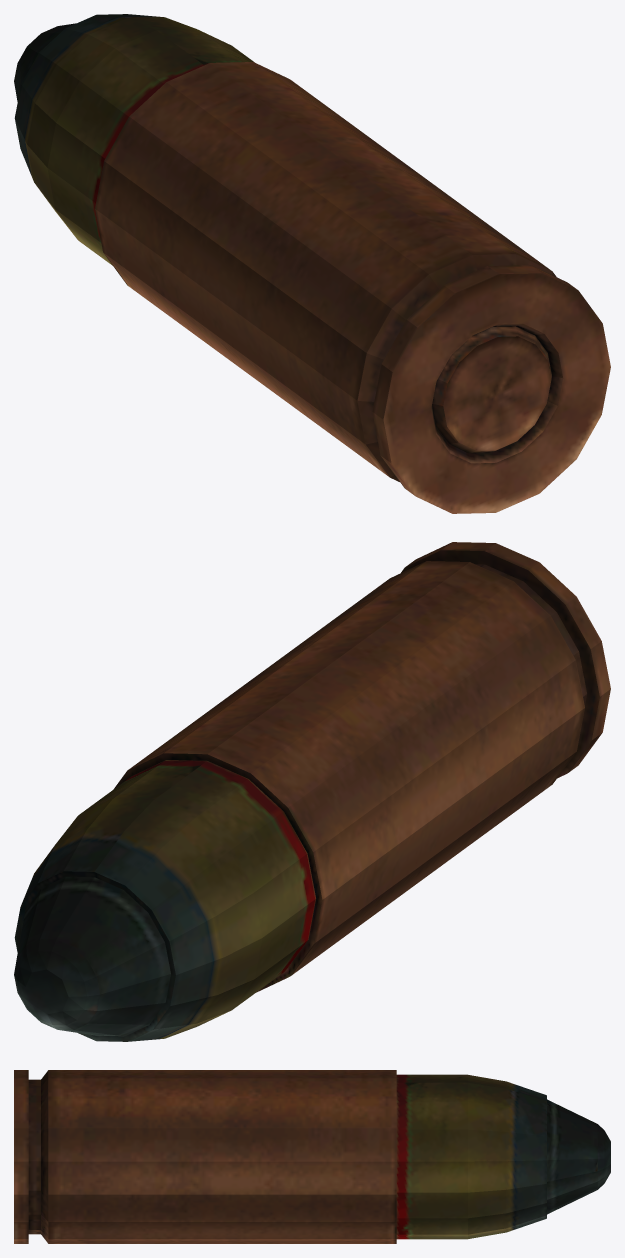
3 views of the same model, one above another, from view 1: azimuth 30°, elevation 25°; view 2: azimuth 150°, elevation 25°; view 3: azimuth 270°, elevation 25° (orthographic). The views are drawn at different scales.
Visible parts, largest first — view 1: TW_5a26ac0ec4a28200741e1e18_PZ_Import; view 2: TW_5a26ac0ec4a28200741e1e18_PZ_Import; view 3: TW_5a26ac0ec4a28200741e1e18_PZ_Import.
Boxes of the visible parts, <box> form: TW_5a26ac0ec4a28200741e1e18_PZ_Import: <box>14,14,610,513</box>; TW_5a26ac0ec4a28200741e1e18_PZ_Import: <box>14,542,610,1041</box>; TW_5a26ac0ec4a28200741e1e18_PZ_Import: <box>14,1070,610,1243</box>.
Size of the model in its own units: 0.00552 by 0.0189 by 0.00552.
Materials: 1 (1 with a texture image).
